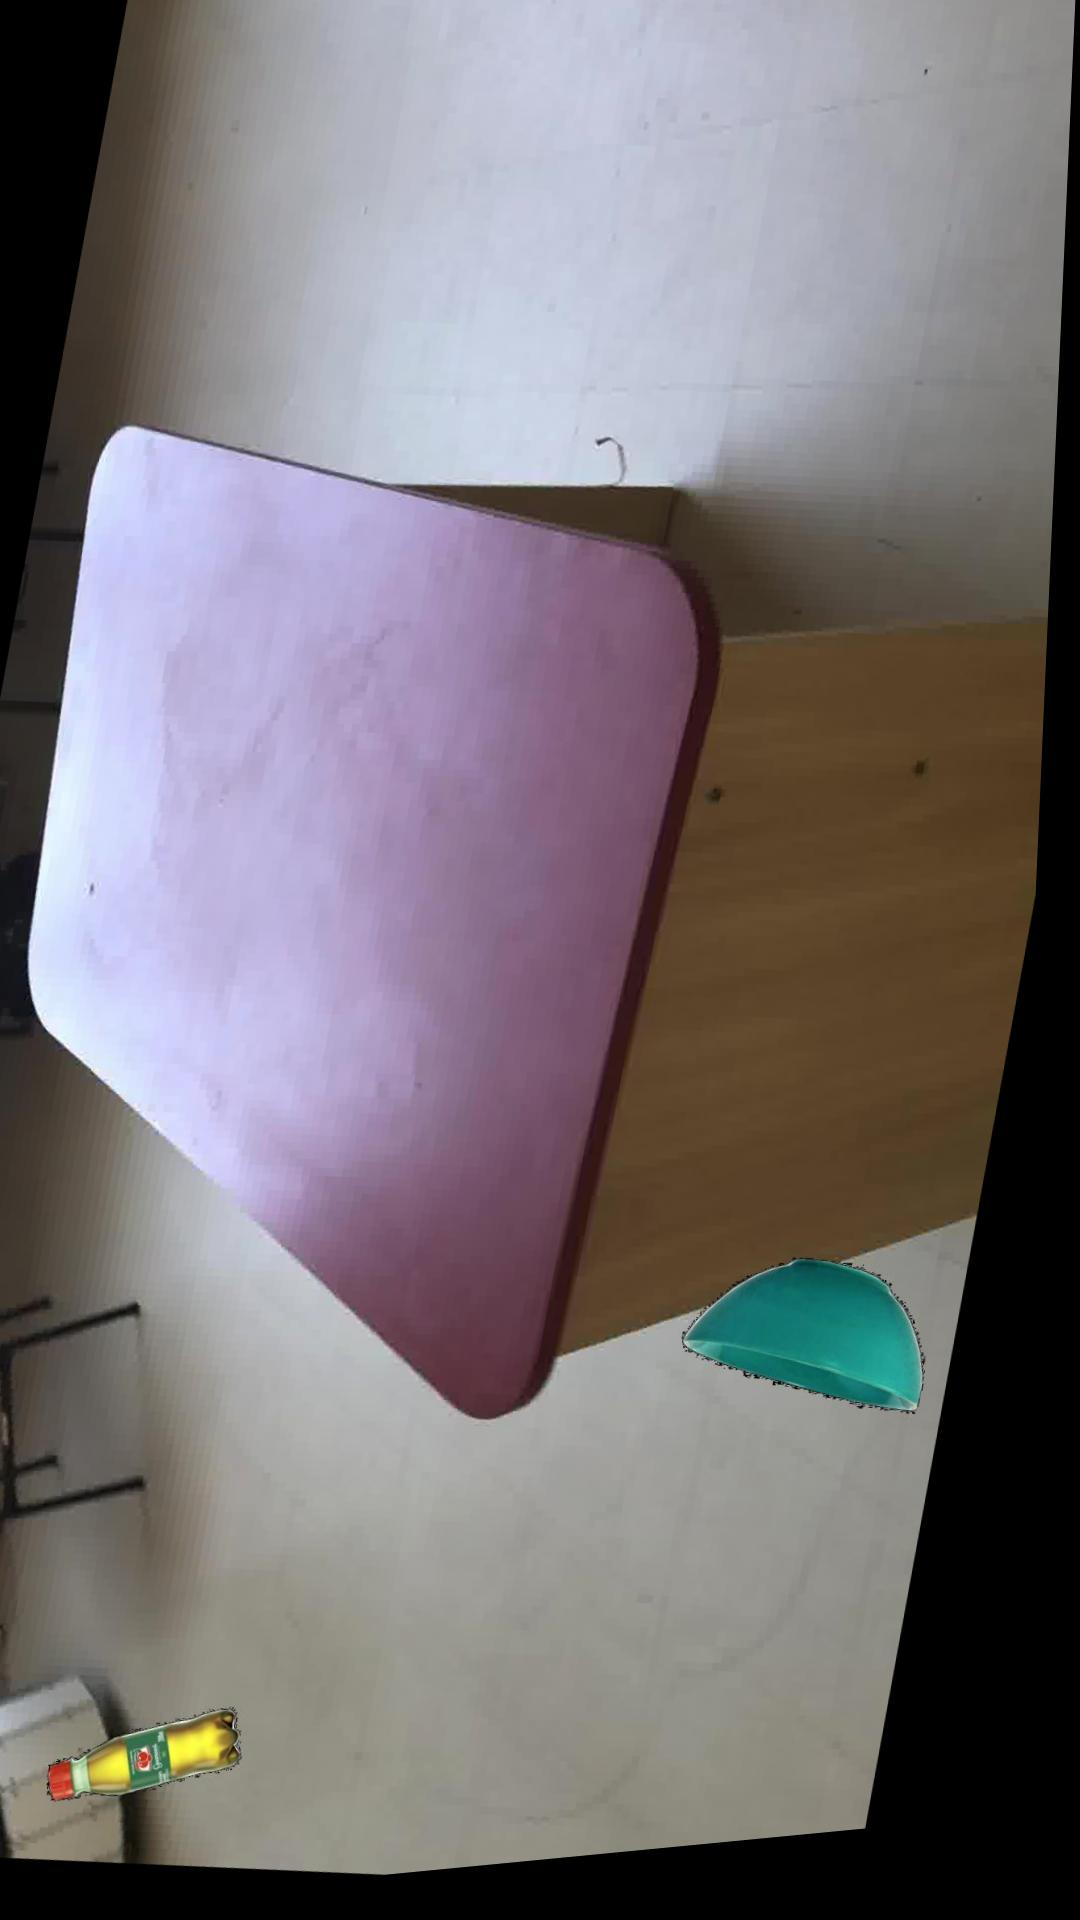bowl: (698, 1274, 940, 1432)
guarana: (66, 1713, 260, 1803)
